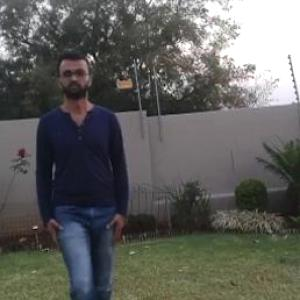follow: (42, 63, 128, 299)
